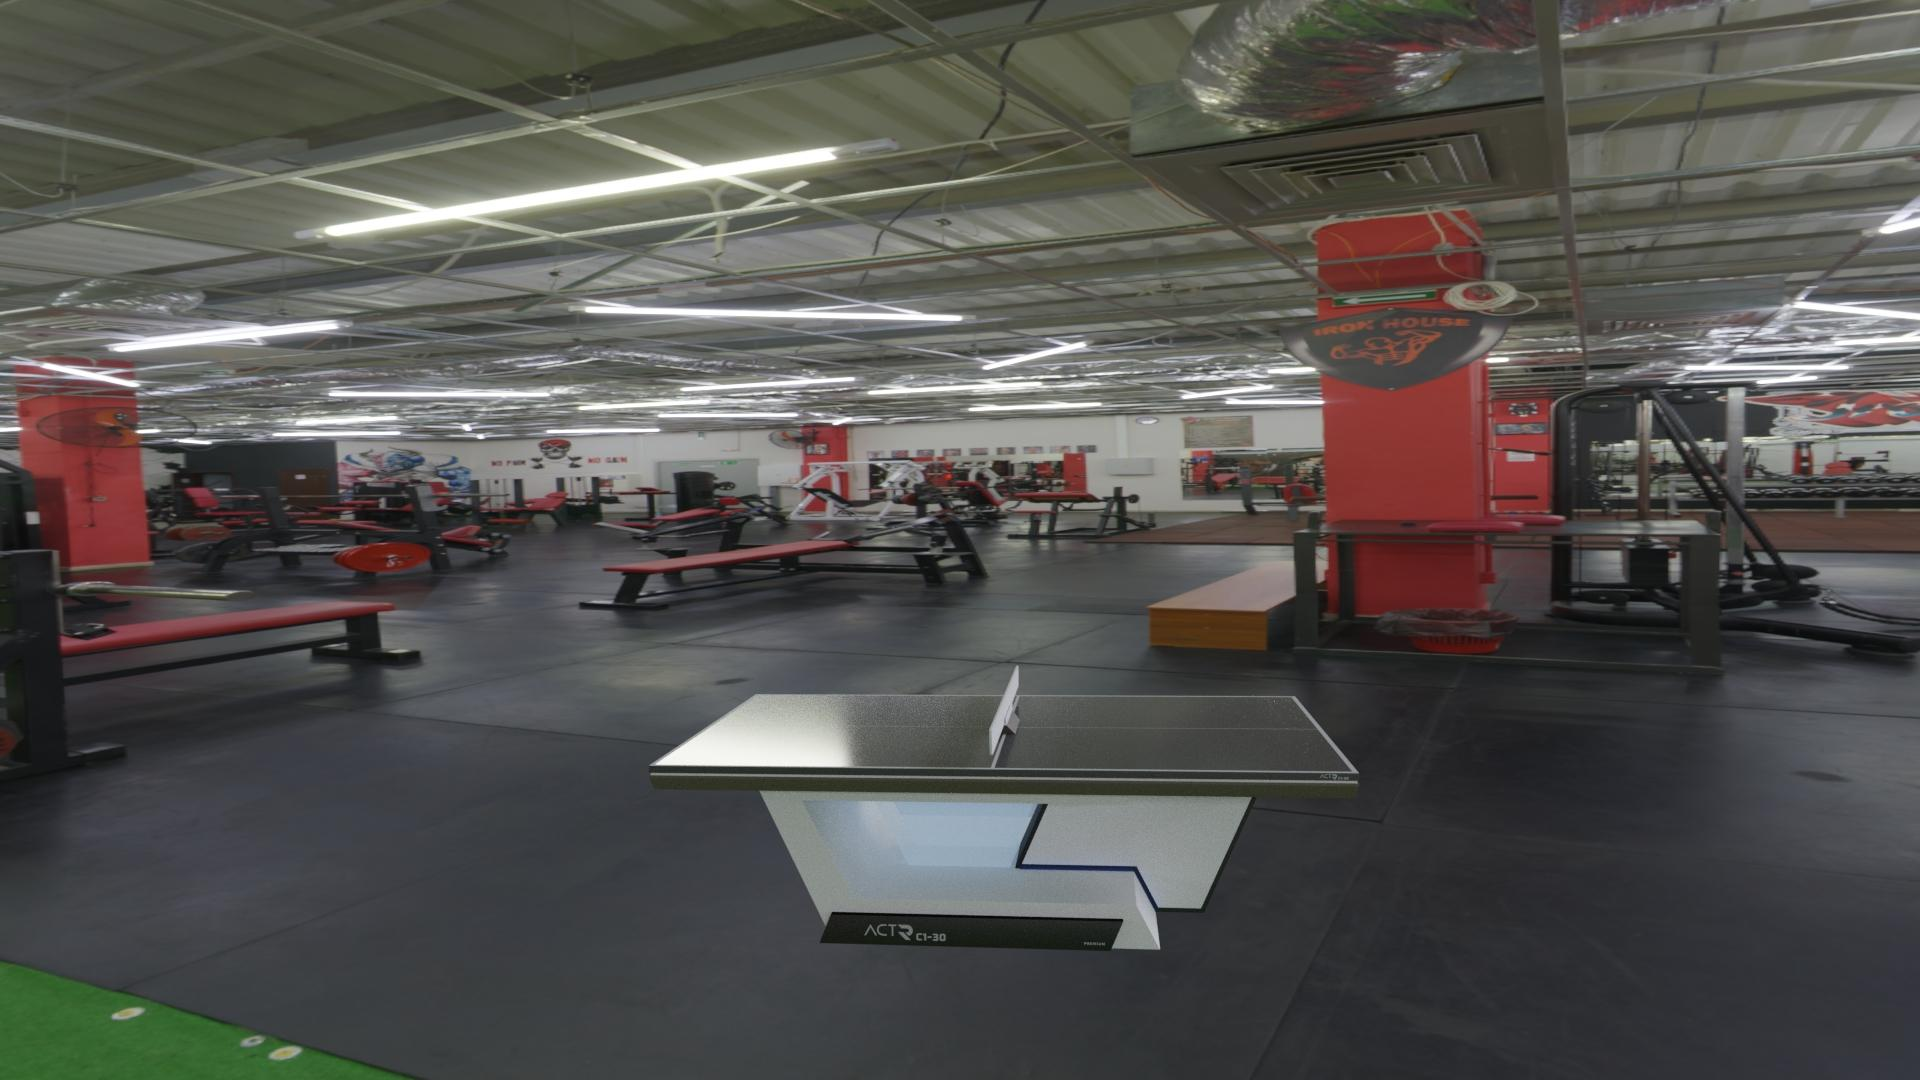table: (655, 695, 1353, 771)
